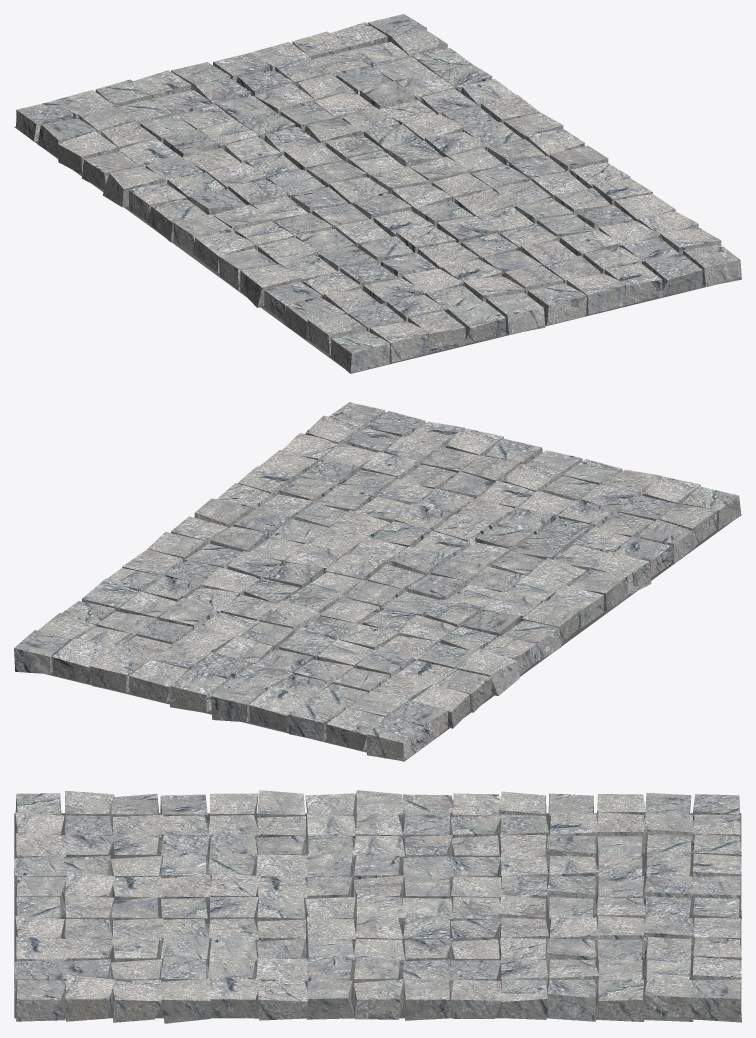
The model's file is Stone_Tile_2x3.fbx.
3 renders of one model, top to bottom at view 1: azimuth 30°, elevation 25°; view 2: azimuth 150°, elevation 25°; view 3: azimuth 270°, elevation 25°, orthographic. The views are drawn at different scales.
Parts seen in each view (by area): view 1: Stone_Tile_2x3; view 2: Stone_Tile_2x3; view 3: Stone_Tile_2x3.
Boxes of the visible parts, x1,y1,x2,y2 form: Stone_Tile_2x3: [14, 14, 741, 373]; Stone_Tile_2x3: [14, 402, 741, 761]; Stone_Tile_2x3: [14, 790, 741, 1023].
Size of the model in its own units: 2.05 by 0.1367 by 3.
2 materials, 1 textured.
